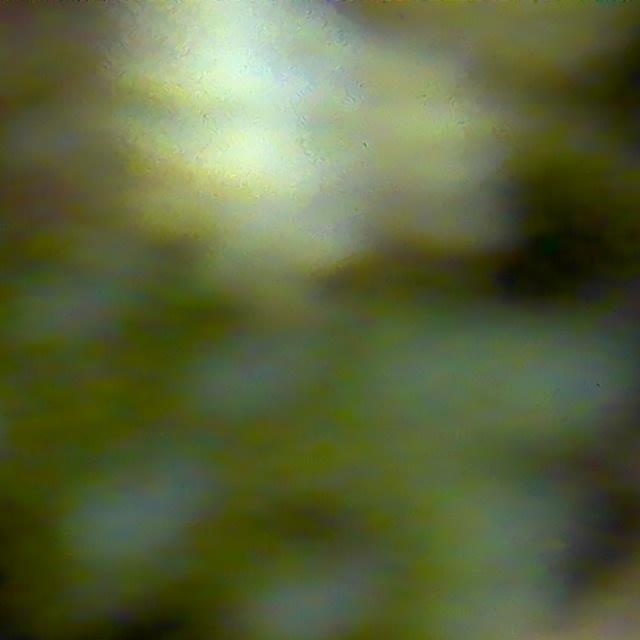SeaGrape: (0, 463, 176, 638), (232, 540, 365, 640)
